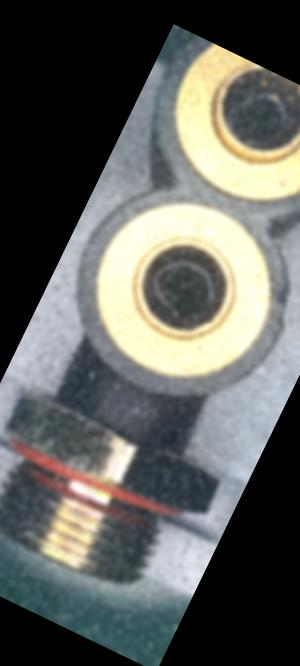bump: (262, 279, 300, 329)
off-centered: (133, 239, 233, 338), (207, 64, 300, 161)
white mark: (100, 392, 128, 421)
